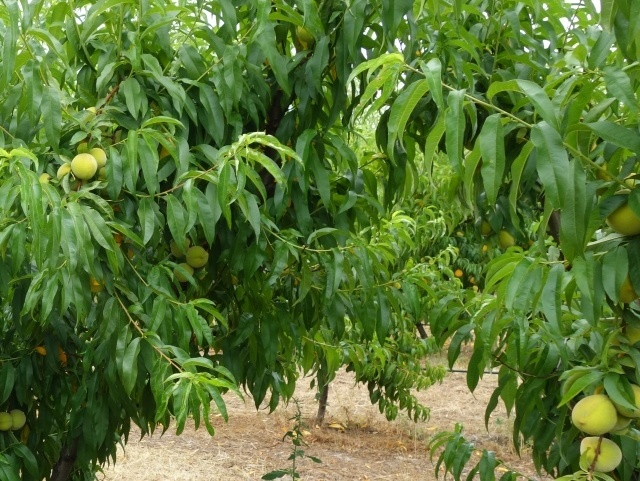peach: (567, 386, 620, 440), (577, 431, 625, 476), (609, 183, 639, 243), (605, 378, 639, 418), (69, 151, 101, 183), (52, 162, 82, 190), (185, 244, 212, 270), (173, 258, 198, 284), (495, 227, 517, 254), (167, 236, 189, 261), (10, 404, 28, 430), (86, 145, 107, 167)
